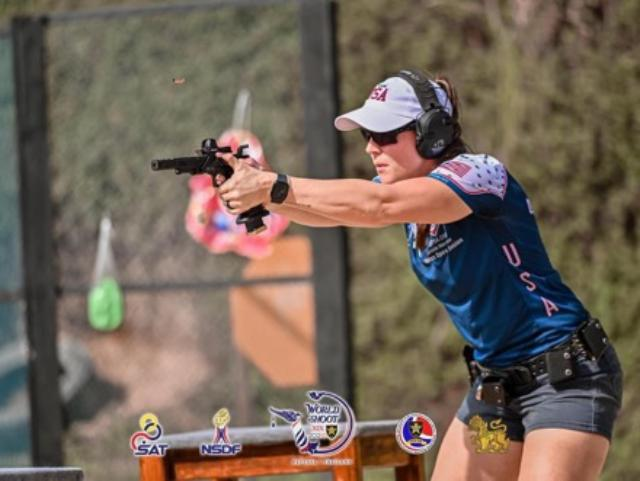handgun: (148, 136, 274, 236)
